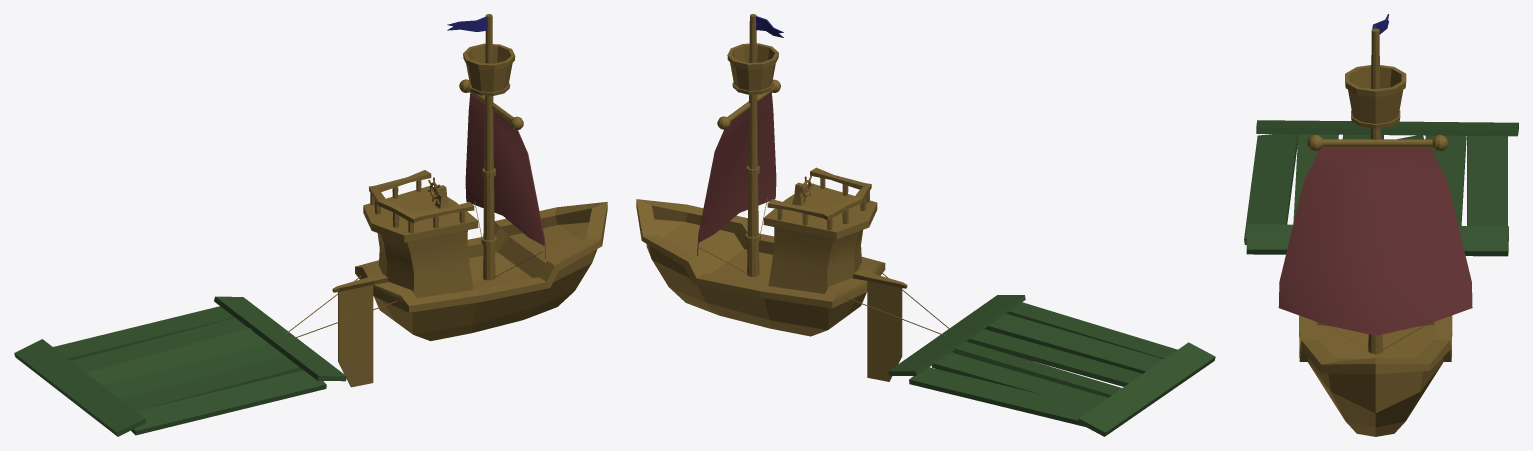
File: boat.fbx
3 views of the same model, side by side, from view 1: azimuth 30°, elevation 25°; view 2: azimuth 150°, elevation 25°; view 3: azimuth 270°, elevation 25° (orthographic). The views are drawn at different scales.
Visible parts, largest first — view 1: Main, Wood, Voiles, Gouvernail; view 2: Main, Wood, Voiles, Gouvernail; view 3: Voiles, Wood, Main.
Boxes of the visible parts, bbox=[...] form: Main: bbox=[355, 14, 607, 341]; Wood: bbox=[14, 296, 346, 436]; Voiles: bbox=[459, 79, 545, 277]; Gouvernail: bbox=[332, 274, 387, 387]; Main: bbox=[636, 14, 885, 336]; Wood: bbox=[888, 295, 1215, 436]; Voiles: bbox=[697, 79, 780, 273]; Gouvernail: bbox=[853, 270, 907, 381]; Voiles: bbox=[1278, 134, 1472, 350]; Wood: bbox=[1244, 120, 1518, 256]; Main: bbox=[1299, 28, 1452, 436].
Size of the model in its own units: 1212 by 725 by 438.
